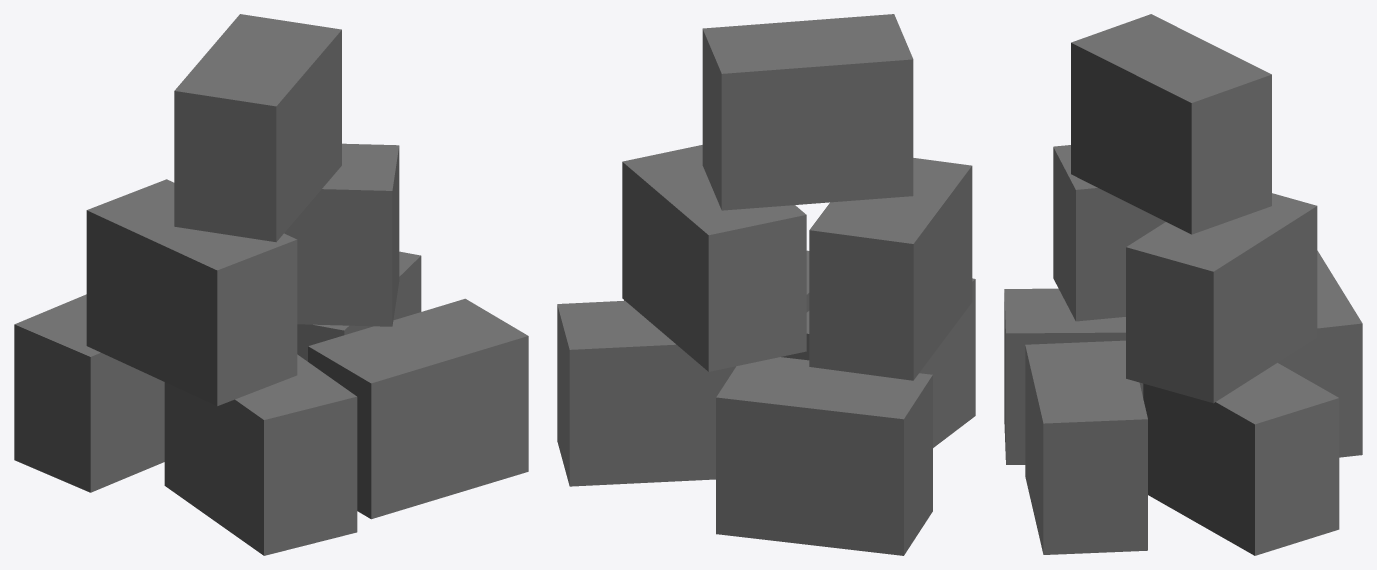
Rendered from brazier_03.fbx.
3 views of the same model, side by side, from view 1: azimuth 30°, elevation 25°; view 2: azimuth 150°, elevation 25°; view 3: azimuth 270°, elevation 25° (orthographic). The views are drawn at different scales.
Visible parts, largest first — view 1: brazier_03; view 2: brazier_03; view 3: brazier_03.
Part boxes in pixels (x1,y1,x2,y2): brazier_03: (14, 14, 528, 555); brazier_03: (557, 14, 975, 555); brazier_03: (1004, 14, 1362, 555).
Size of the model in its own units: 2.04 by 2.14 by 1.74.
